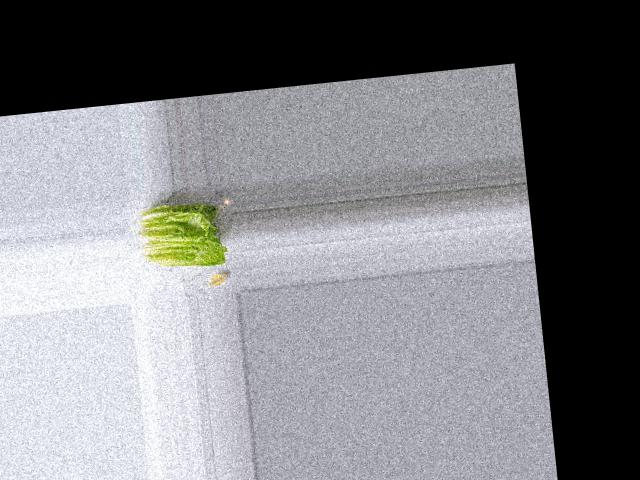lettuce: (135, 196, 229, 276)
